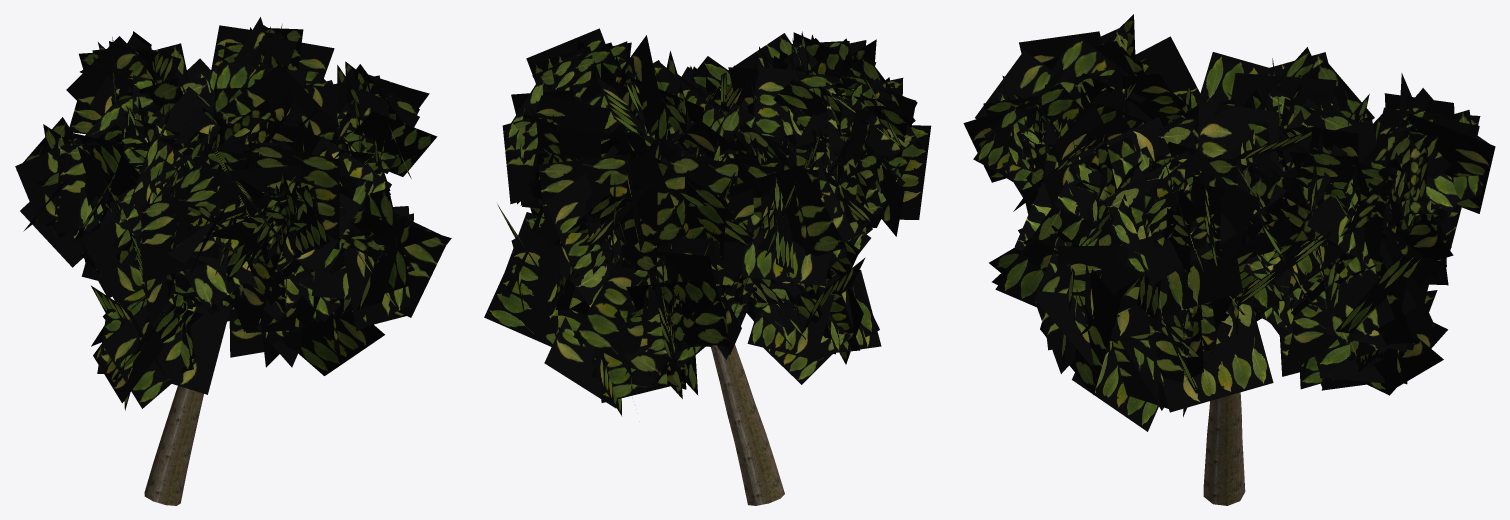
The picture shows the model from 3 angles, left to right: view 1: azimuth 30°, elevation 25°; view 2: azimuth 150°, elevation 25°; view 3: azimuth 270°, elevation 25°; orthographic projection. The views are drawn at different scales.
Visible parts, largest first — view 1: plane; view 2: plane; view 3: plane.
Part boxes in pixels (<box>): plane: <box>15,17,451,505</box>; plane: <box>484,28,931,505</box>; plane: <box>963,14,1495,505</box>.
Bounding box in the file's own units: 11.99 × 13.18 × 13.64.
Materials: 2 (2 with a texture image).
